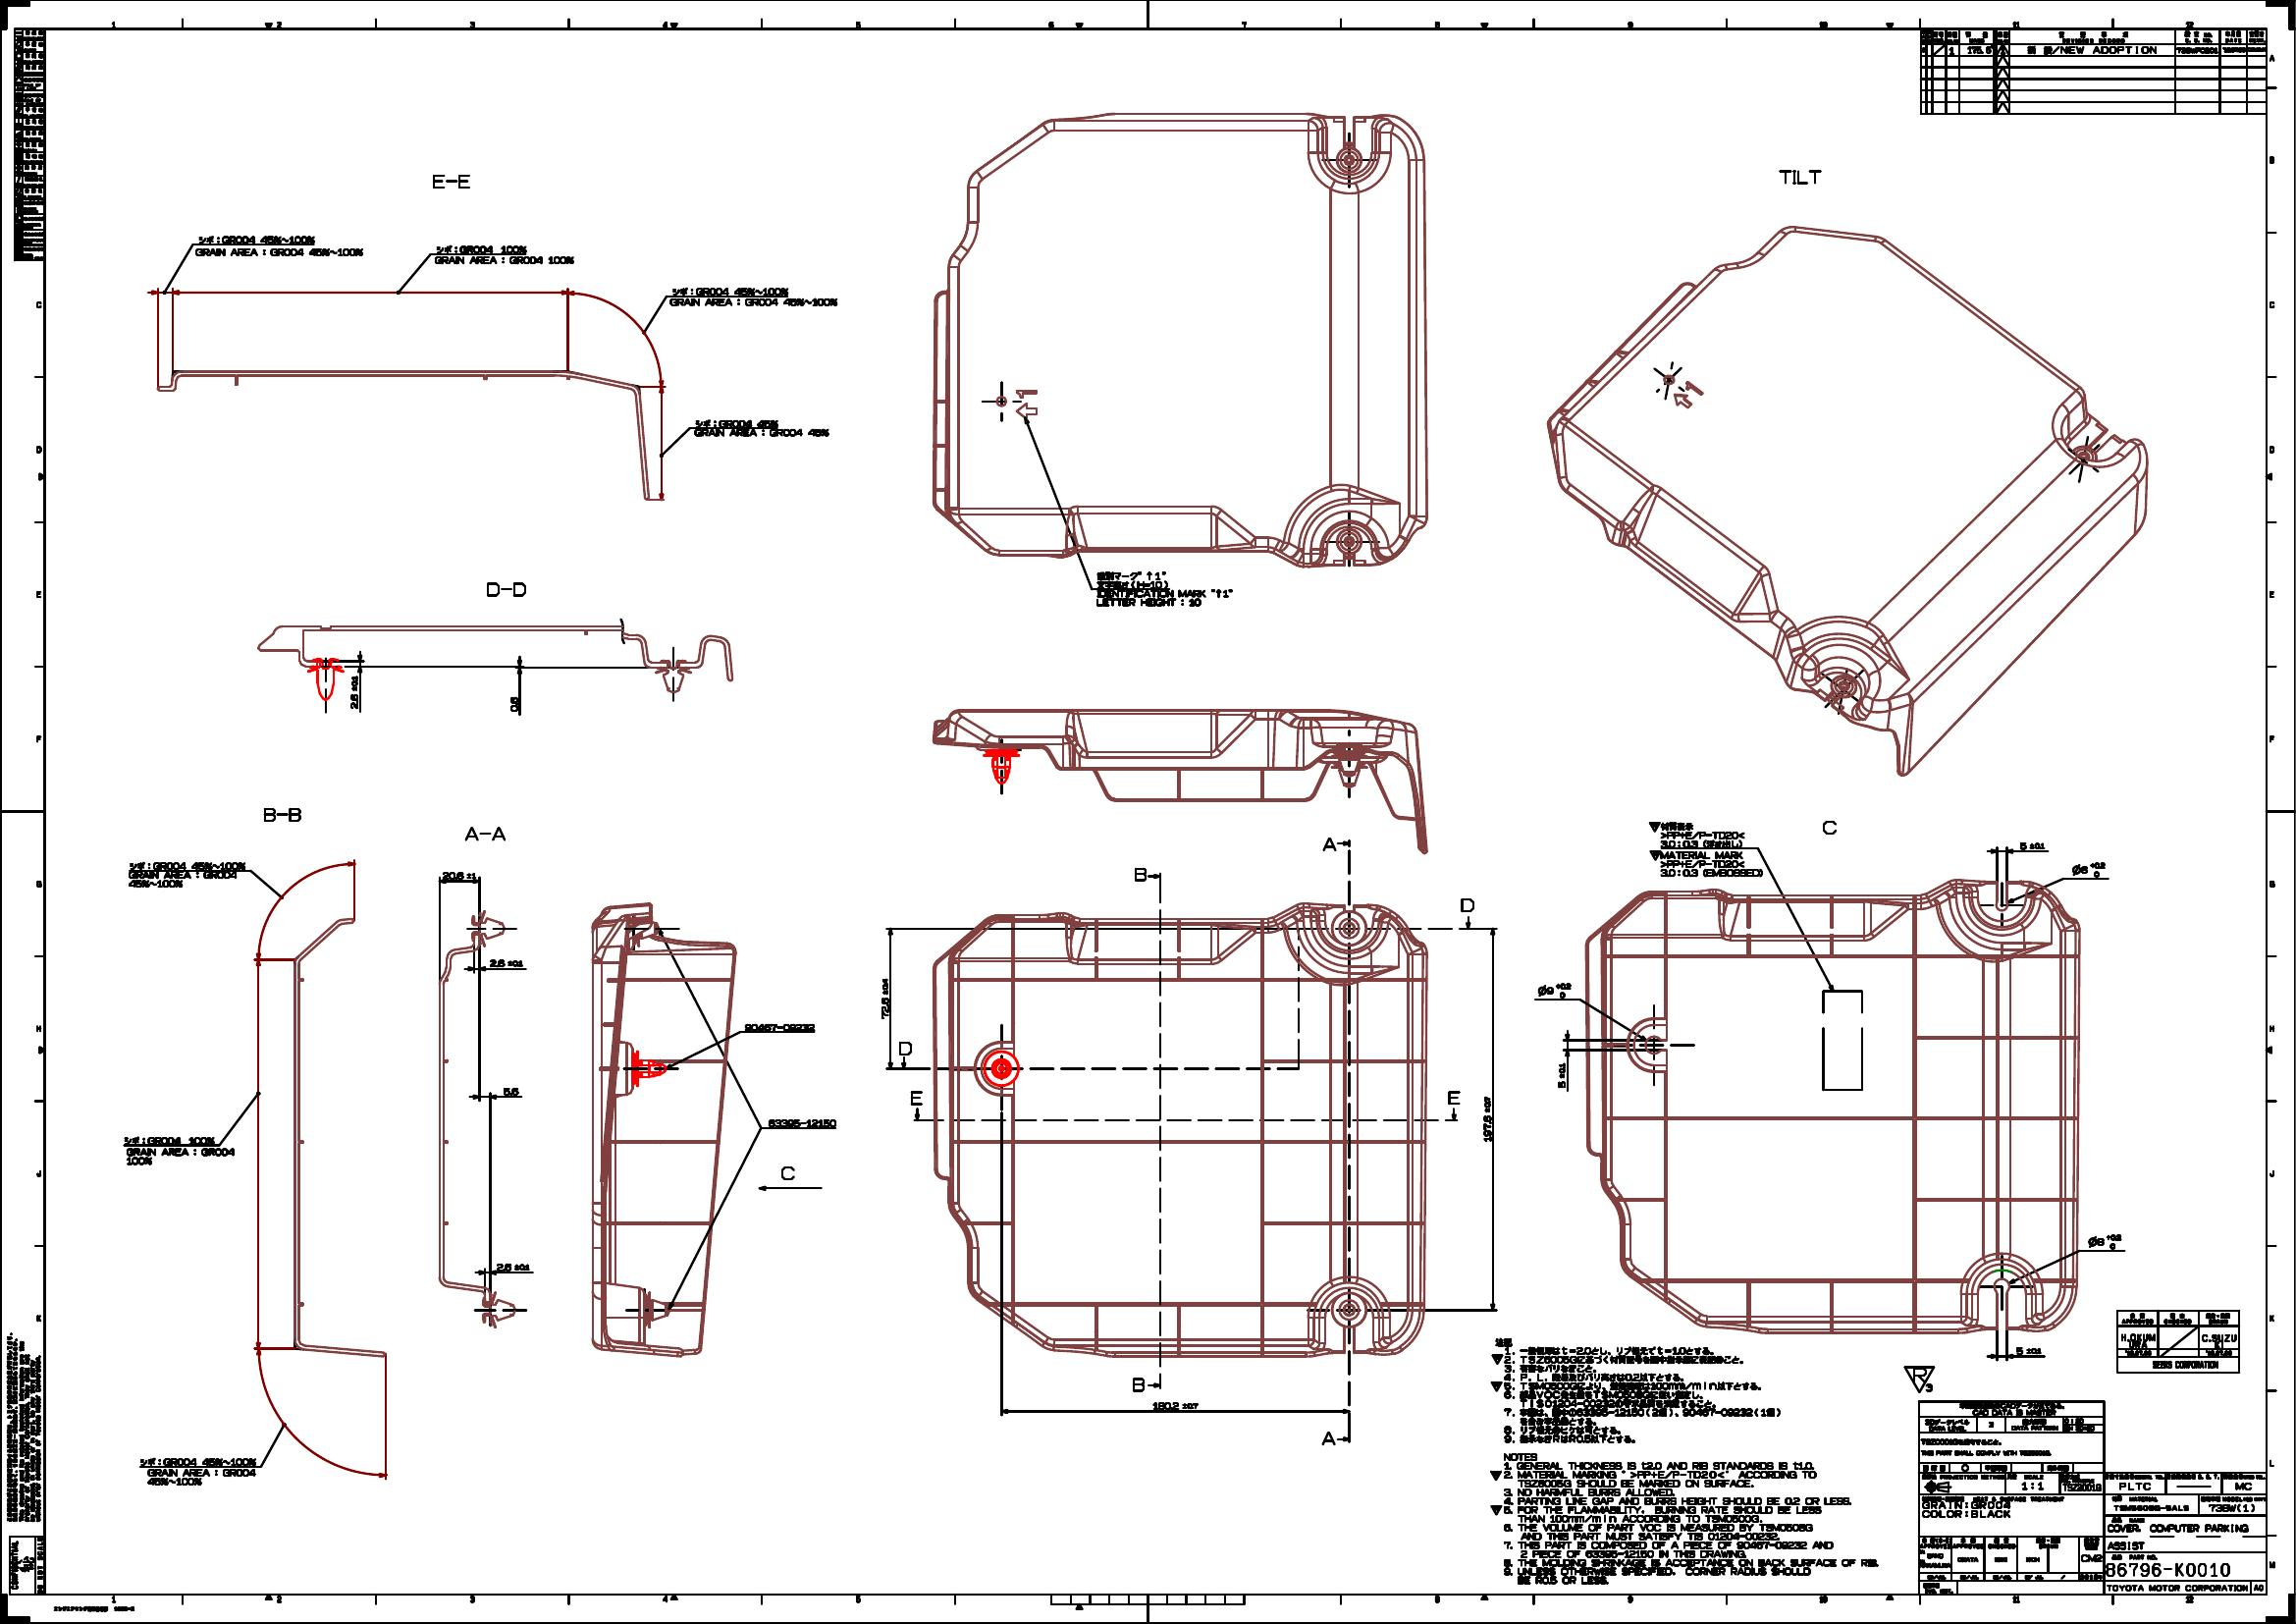anntotation_text: (1484, 1448, 1888, 1585), (1488, 1334, 1788, 1445), (2117, 1309, 2242, 1374), (5, 1329, 44, 1522), (1648, 817, 1764, 881), (1091, 568, 1233, 610), (666, 285, 840, 309), (123, 1134, 237, 1169), (193, 236, 365, 258), (689, 415, 833, 439), (137, 1457, 260, 1485), (126, 859, 248, 888), (432, 244, 580, 267), (7, 1536, 46, 1596), (1901, 1360, 1939, 1396), (483, 578, 531, 599), (260, 805, 306, 826), (460, 824, 509, 844), (1776, 165, 1825, 183), (429, 170, 473, 190), (766, 1116, 838, 1127), (745, 1021, 817, 1032), (51, 1605, 135, 1612), (1319, 835, 1339, 856), (896, 1037, 915, 1058), (1820, 817, 1839, 837), (1444, 1086, 1462, 1106), (1458, 895, 1476, 914), (906, 1088, 924, 1107), (1318, 1429, 1337, 1446), (778, 1164, 798, 1181), (1131, 865, 1149, 882), (1131, 1376, 1147, 1392)
dimension_text: (2069, 859, 2108, 877), (1535, 981, 1572, 998), (2089, 1232, 2122, 1250), (1481, 1093, 1491, 1144), (1151, 1399, 1200, 1410), (878, 975, 889, 1021), (348, 673, 360, 710), (439, 870, 478, 881), (494, 1260, 531, 1271), (488, 958, 523, 968), (2015, 1345, 2043, 1355), (2018, 840, 2047, 851), (508, 692, 520, 714), (1556, 1062, 1565, 1090), (501, 1086, 520, 1095)
object: (1542, 220, 2152, 782), (1581, 872, 2085, 1341), (929, 105, 1435, 569), (928, 900, 1430, 1360), (148, 288, 668, 506), (251, 859, 390, 1487), (924, 705, 1433, 858), (590, 900, 748, 1360), (434, 909, 527, 1330), (253, 620, 741, 685)
title_block: (1917, 1399, 2266, 1592), (1918, 26, 2266, 114), (12, 26, 46, 262)
